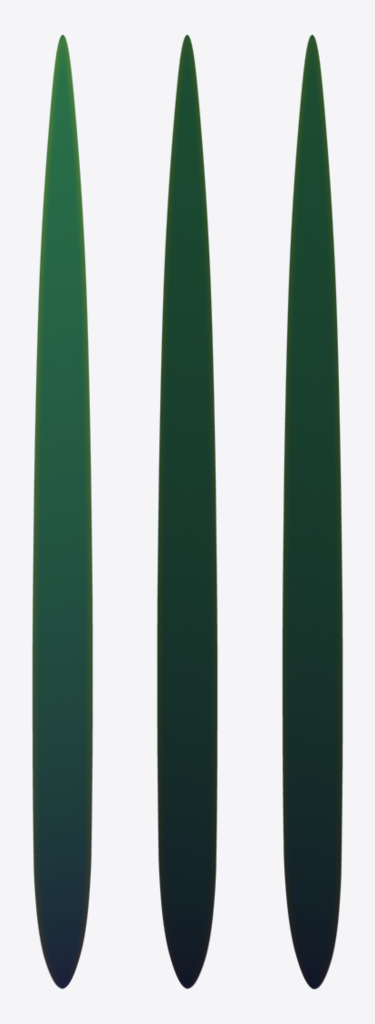
The picture shows the model from 3 angles, left to right: view 1: azimuth 30°, elevation 25°; view 2: azimuth 150°, elevation 25°; view 3: azimuth 330°, elevation 25°; orthographic projection.
Visible parts, largest first — view 1: Grass:Grass_Master; view 2: Grass:Grass_Master; view 3: Grass:Grass_Master.
Boxes of the visible parts, x1,y1,x2,y2 form: Grass:Grass_Master: [32, 34, 92, 988]; Grass:Grass_Master: [157, 34, 217, 988]; Grass:Grass_Master: [282, 34, 342, 989].
Bounding box in the file's own units: 1.4 × 13.46 × 1.25e-22.
Materials: 1 (1 with a texture image).
